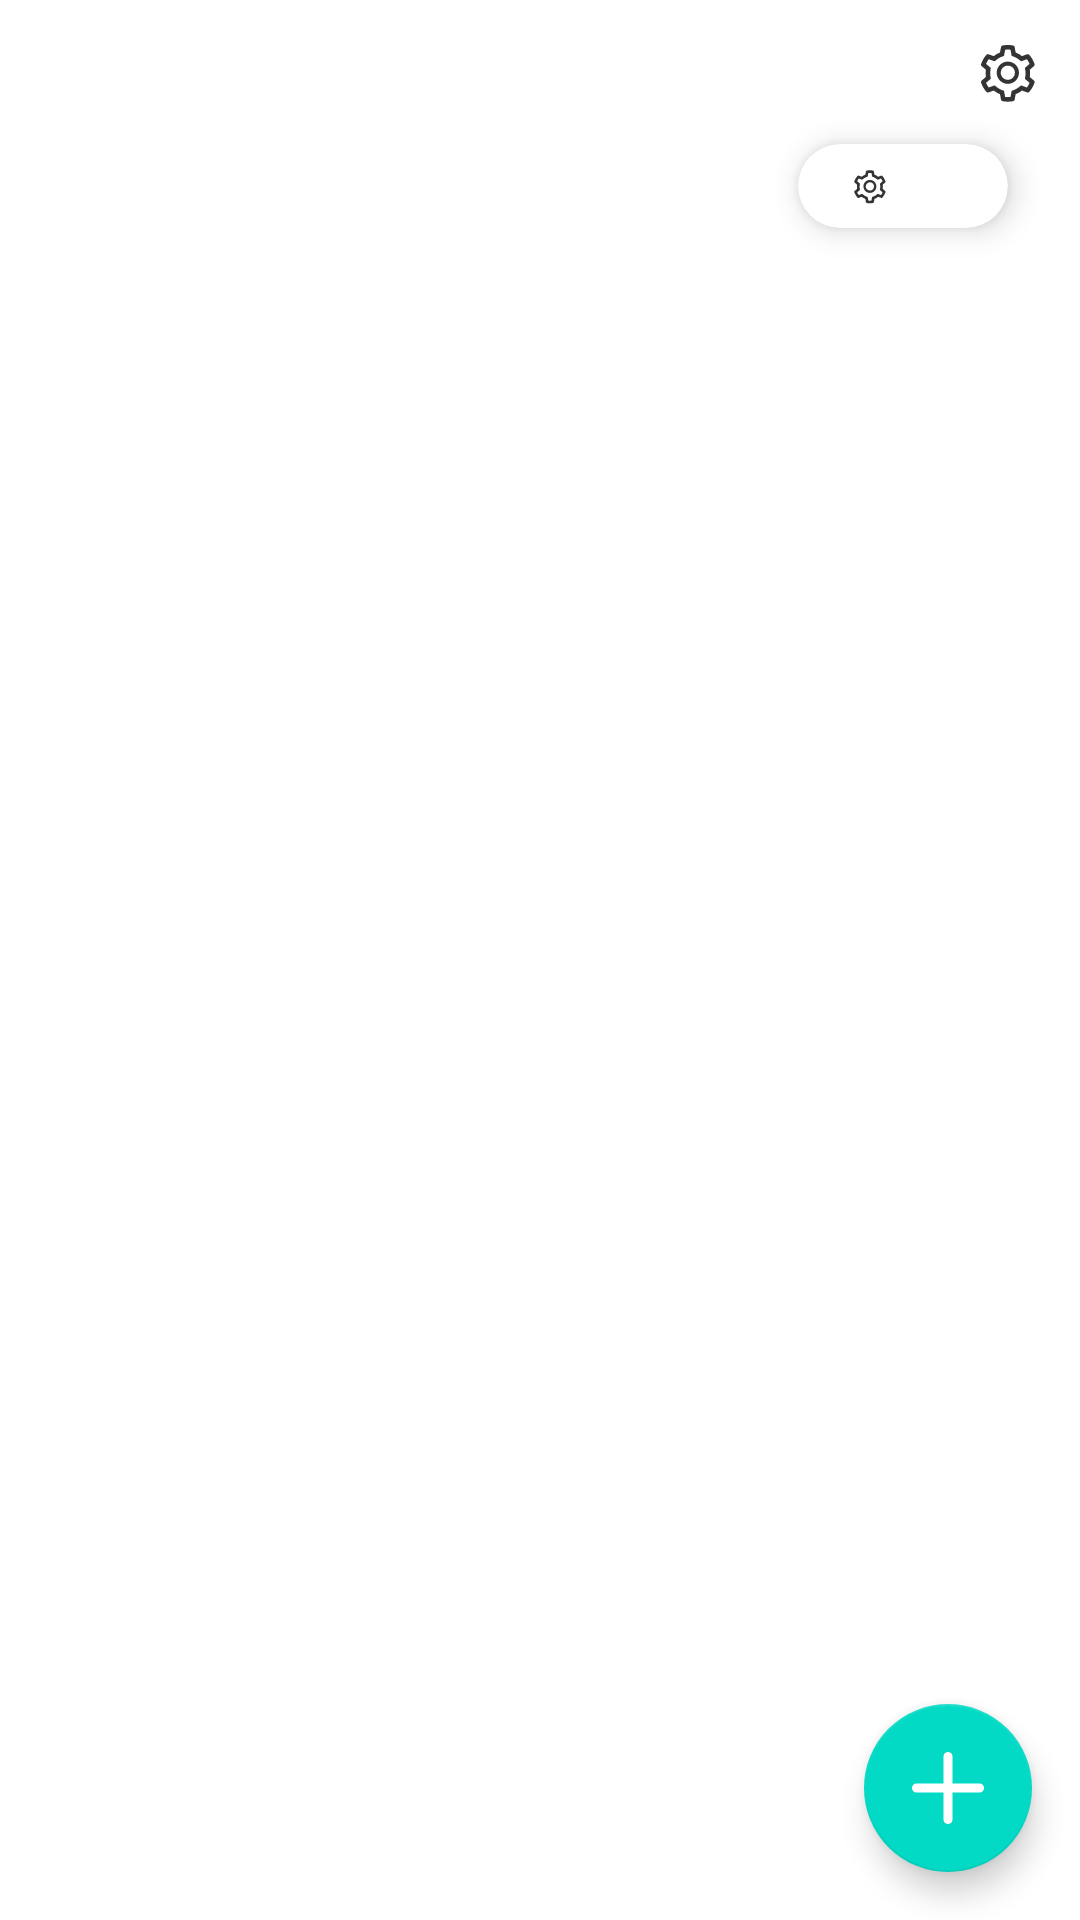

Named icons in this screenshot (1080px x 1920px) and their centers, [x,y]:
plus: [948,1788]
